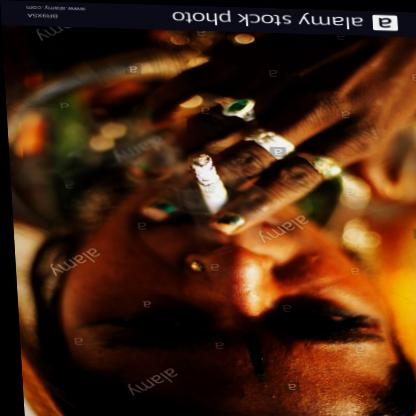smoke: (19, 107, 188, 187)
